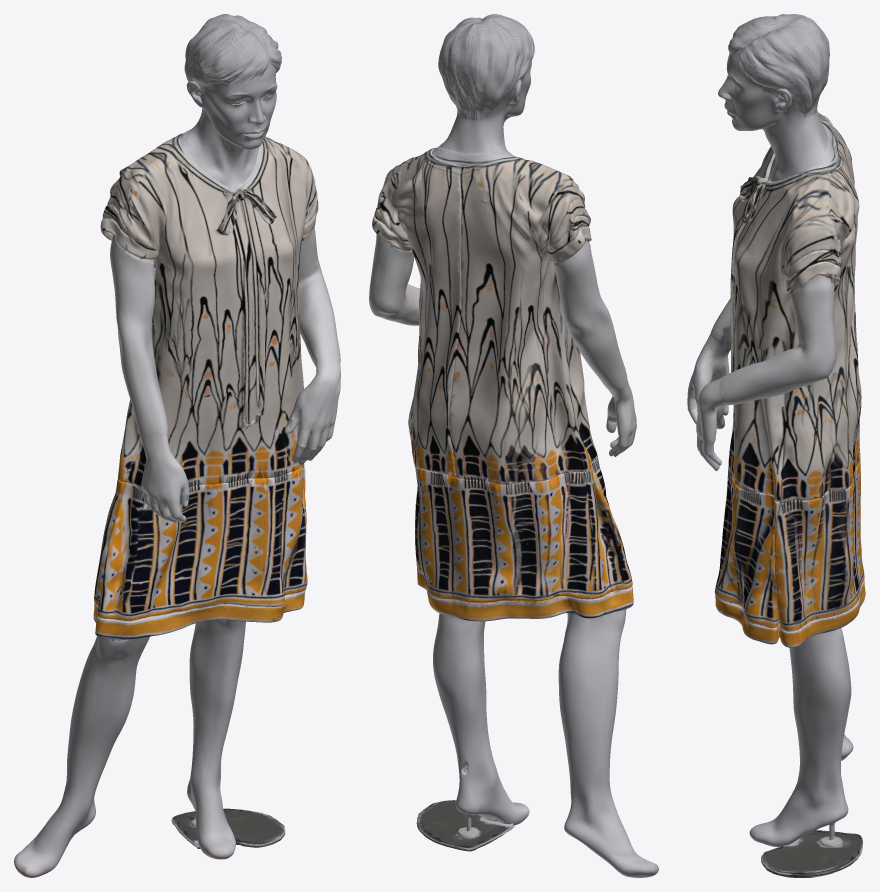
The picture shows the model from 3 angles, left to right: view 1: azimuth 30°, elevation 25°; view 2: azimuth 150°, elevation 25°; view 3: azimuth 270°, elevation 25°; orthographic projection. The views are drawn at different scales.
Visible parts, largest first — view 1: tripo_node_61883936-9a5c-42f1-b3b3-2643b4498a0e; view 2: tripo_node_61883936-9a5c-42f1-b3b3-2643b4498a0e; view 3: tripo_node_61883936-9a5c-42f1-b3b3-2643b4498a0e.
Boxes of the visible parts, left/top/right/bottom form: tripo_node_61883936-9a5c-42f1-b3b3-2643b4498a0e: left=14, top=14, right=340, bottom=877; tripo_node_61883936-9a5c-42f1-b3b3-2643b4498a0e: left=369, top=14, right=658, bottom=877; tripo_node_61883936-9a5c-42f1-b3b3-2643b4498a0e: left=687, top=14, right=865, bottom=877.
Size of the model in its own units: 0.3727 by 0.981 by 0.1899.
1 material, 1 textured.
